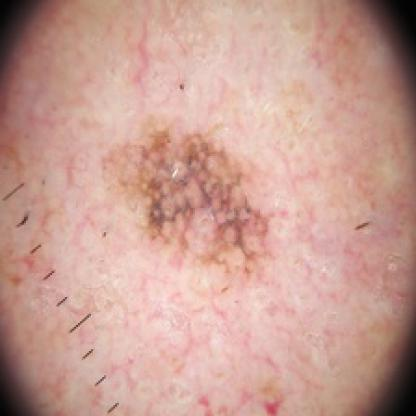malignant: (121, 124, 271, 251)
